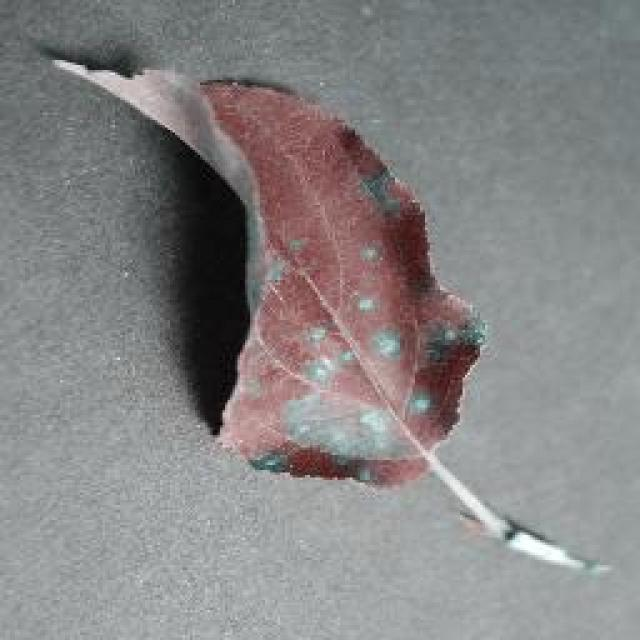apple cedar apple rust: (42, 45, 488, 487)
